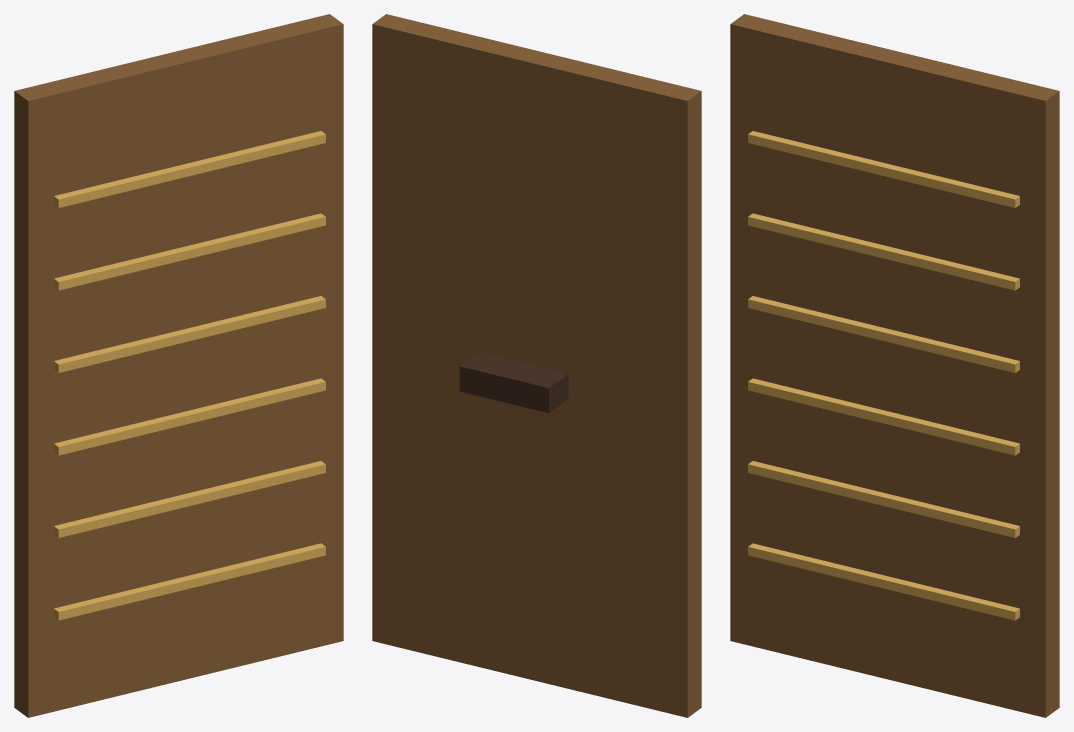
The model's file is persian-spara.glb.
The picture shows the model from 3 angles, left to right: view 1: azimuth 30°, elevation 25°; view 2: azimuth 150°, elevation 25°; view 3: azimuth 330°, elevation 25°; orthographic projection.
Parts seen in each view (by area): view 1: Shield, Bands (×6); view 2: Shield, RearGrip; view 3: Shield, Bands (×6).
Boxes of the visible parts, x1,y1,x2,y2 form: Shield: [14, 14, 343, 717]; Bands (×6): [54, 131, 325, 620]; Shield: [372, 14, 701, 717]; RearGrip: [459, 352, 568, 413]; Shield: [730, 14, 1059, 717]; Bands (×6): [748, 131, 1019, 620].
Size of the model in its own units: 0.46 by 0.86 by 0.116.
